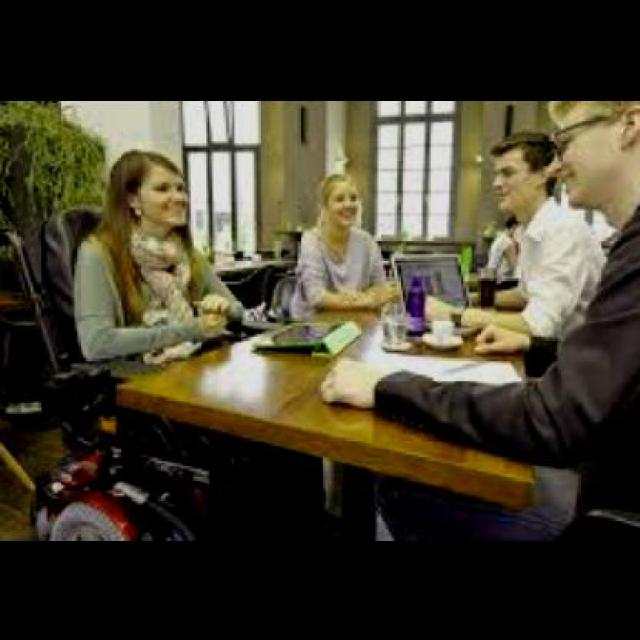wheelchairs: (7, 192, 280, 551)
